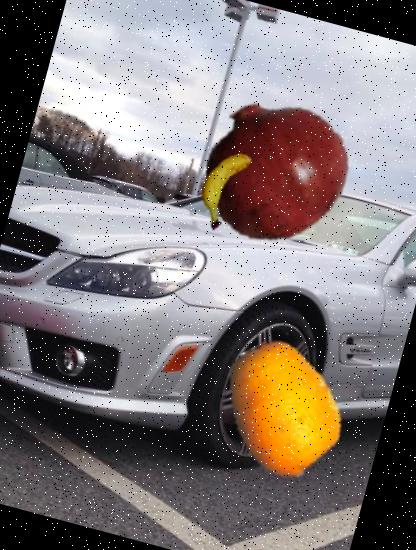Banana: (179, 141, 275, 237)
Kumquats: (200, 326, 366, 492)
Pomegranate: (186, 78, 364, 257)
